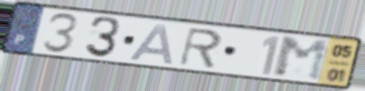1: (260, 34, 282, 77)
3: (41, 12, 81, 54), (84, 16, 123, 59)
A: (126, 23, 175, 66)
M: (272, 36, 332, 83)
R: (177, 26, 225, 70)
